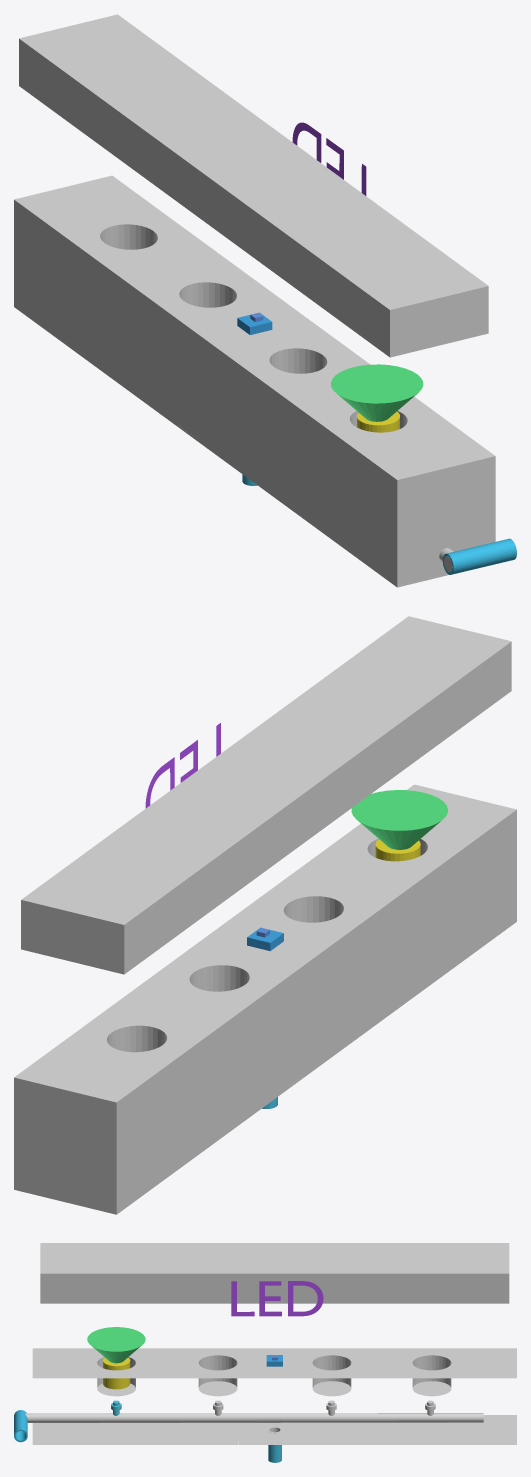
The model's file is aeroponic.glb.
3 renders of one model, top to bottom at view 1: azimuth 30°, elevation 25°; view 2: azimuth 150°, elevation 25°; view 3: azimuth 270°, elevation 25°, orthographic. The views are drawn at different scales.
Parts seen in each view (by area): view 1: Cube, Cube.003, Cone, Cylinder.007, Text; view 2: Cube, Cube.003, Cone, Text, Cylinder; view 3: Cube.003, Cube, Plane.002, Plane.001, Cylinder.001, BezierCircle, Cone, Text, Cylinder, Cylinder.007.
Part boxes in pixels (x1=…): Cube: x1=14, y1=175, x2=495, y2=587; Cube.003: x1=19, y1=14, x2=488, y2=357; Cone: x1=331, y1=364, x2=423, y2=421; Cylinder.007: x1=442, y1=538, x2=516, y2=574; Text: x1=292, y1=122, x2=366, y2=195; Cube: x1=14, y1=784, x2=516, y2=1214; Cube.003: x1=21, y1=616, x2=511, y2=974; Cone: x1=351, y1=790, x2=447, y2=849; Text: x1=145, y1=723, x2=220, y2=808; Cylinder: x1=375, y1=839, x2=420, y2=861; Cube.003: x1=40, y1=1243, x2=509, y2=1303; Cube: x1=32, y1=1348, x2=516, y2=1396; Plane.002: x1=309, y1=1415, x2=516, y2=1444; Plane.001: x1=32, y1=1423, x2=237, y2=1444; Cylinder.001: x1=25, y1=1413, x2=483, y2=1422; BezierCircle: x1=237, y1=1422, x2=309, y2=1444; Cone: x1=87, y1=1327, x2=145, y2=1363; Text: x1=231, y1=1281, x2=323, y2=1316; Cylinder: x1=103, y1=1357, x2=130, y2=1389; Cylinder.007: x1=14, y1=1410, x2=27, y2=1442.
Bounding box in the file's own units: 1.63 × 3.94 × 8.85.
